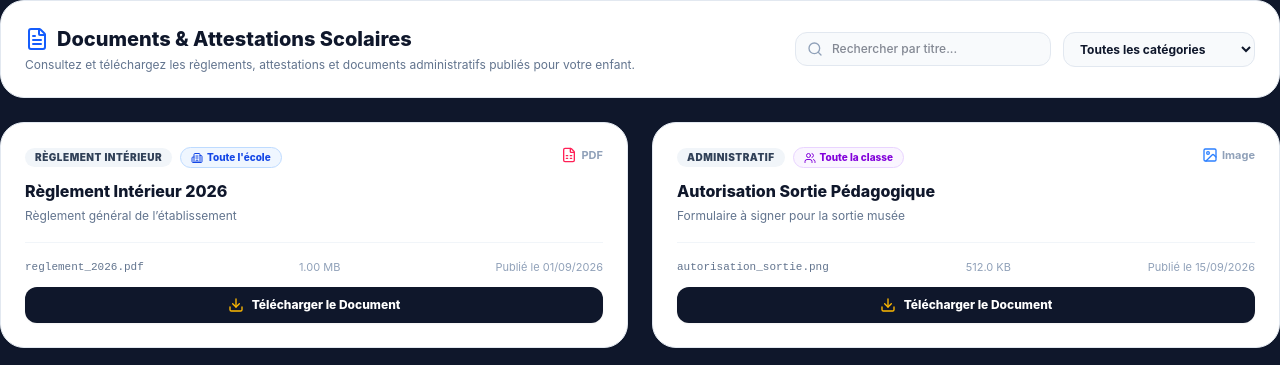
Test case: ParentDocumentsModule › 6. filtre les documents par catégorie
Expected: the heading "Règlement Intérieur 2026" is shown, [25,181,227,201]
Select "Administratif" in the dropdown at (1159, 49), box [1063,32,1255,66]
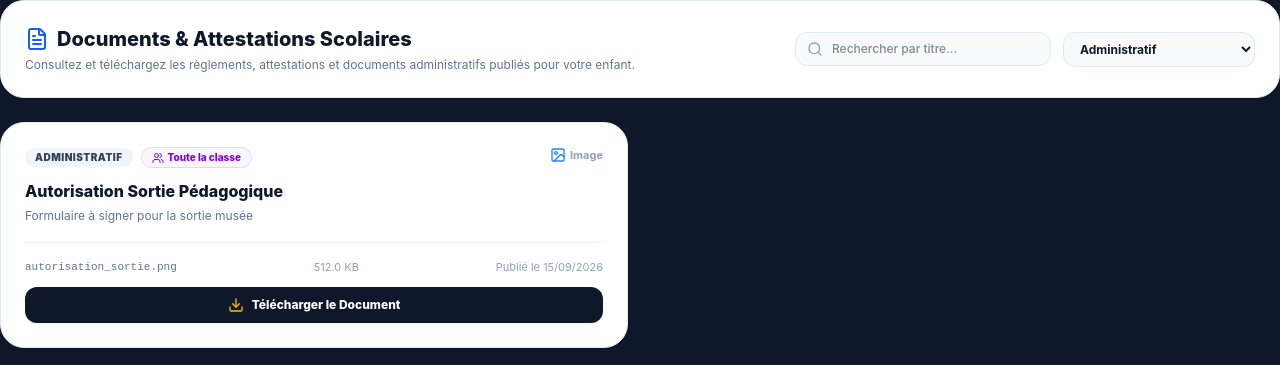
Expected: the heading "Autorisation Sortie Pédagogique" is shown, [25,181,283,201]
Result: the heading "Règlement Intérieur 2026" is gone
